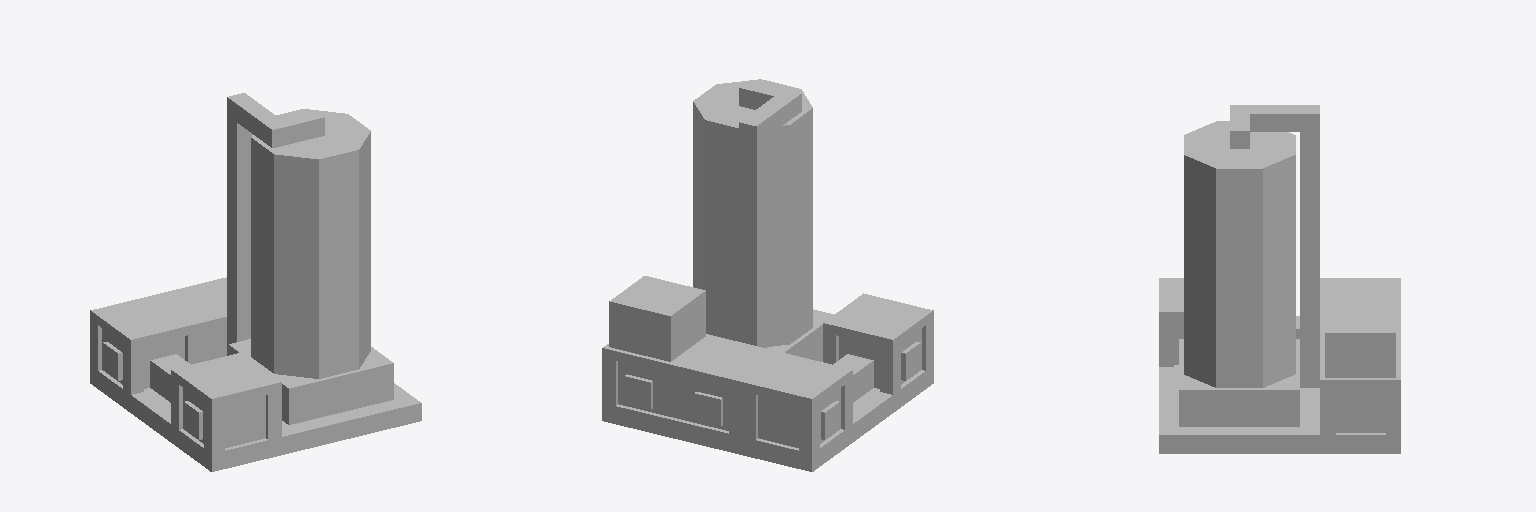
The model's file is centrifuge.obj.
The picture shows the model from 3 angles: view 1: azimuth 30°, elevation 25°; view 2: azimuth 150°, elevation 25°; view 3: azimuth 270°, elevation 25°; orthographic projection.
Visible parts, largest first — view 1: Hull, Cylinder; view 2: Hull, Cylinder; view 3: Hull, Cylinder.
Boxes of the visible parts, x1=… form: Hull: x1=90, y1=93, x2=421, y2=471; Cylinder: x1=251, y1=109, x2=370, y2=378; Hull: x1=602, y1=80, x2=933, y2=471; Cylinder: x1=693, y1=79, x2=812, y2=346; Hull: x1=1159, y1=105, x2=1400, y2=453; Cylinder: x1=1184, y1=121, x2=1295, y2=387.
Size of the model in its own units: 3 by 4 by 3.